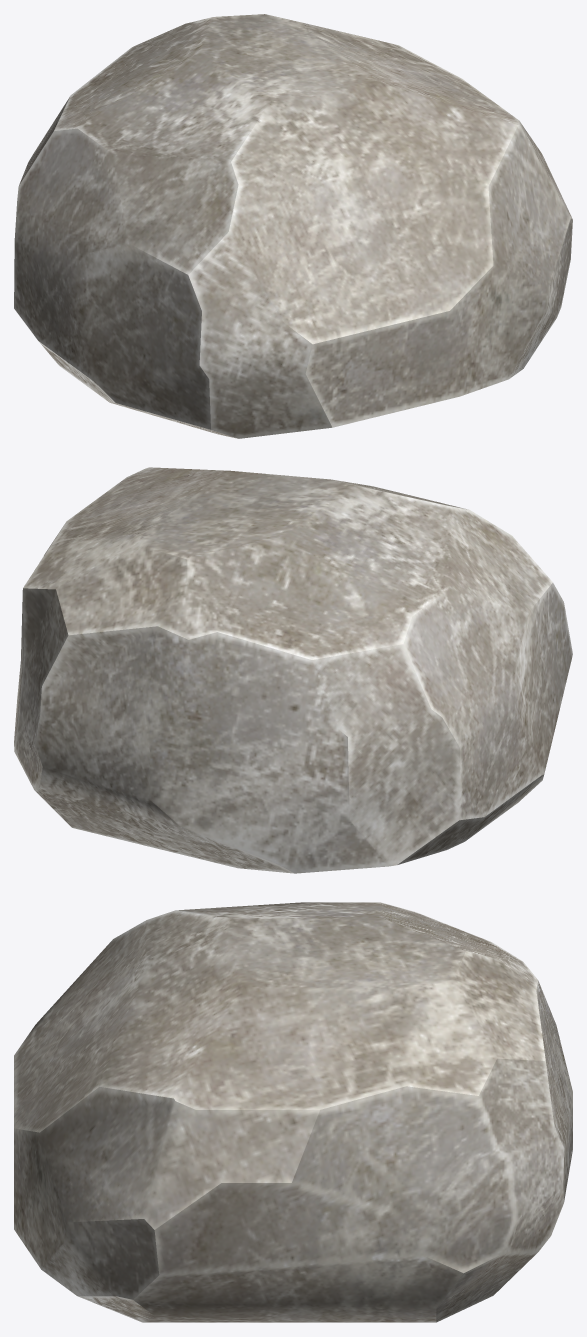
Rendered from pathway_rock_10_dream.glb.
3 views of the same model, one above another, from view 1: azimuth 30°, elevation 25°; view 2: azimuth 150°, elevation 25°; view 3: azimuth 270°, elevation 25° (orthographic). The views are drawn at different scales.
Parts seen in each view (by area): view 1: pathway_rock_10; view 2: pathway_rock_10; view 3: pathway_rock_10.
Boxes of the visible parts, x1=… form: pathway_rock_10: x1=14, y1=14, x2=572, y2=438; pathway_rock_10: x1=14, y1=467, x2=572, y2=873; pathway_rock_10: x1=14, y1=902, x2=572, y2=1322.
Size of the model in its own units: 1.18 by 0.6944 by 1.18.
Materials: 1 (1 with a texture image).
